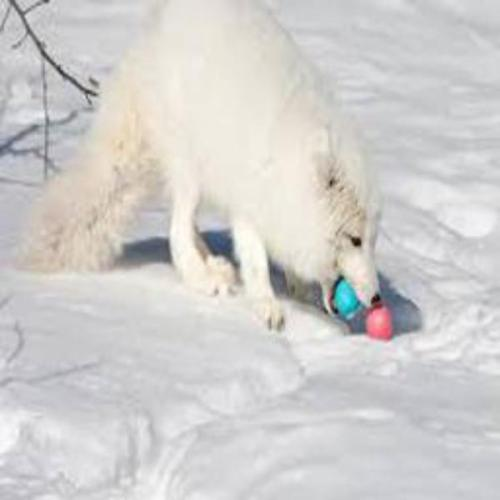arctic_fox-endangered: (16, 0, 382, 335)
